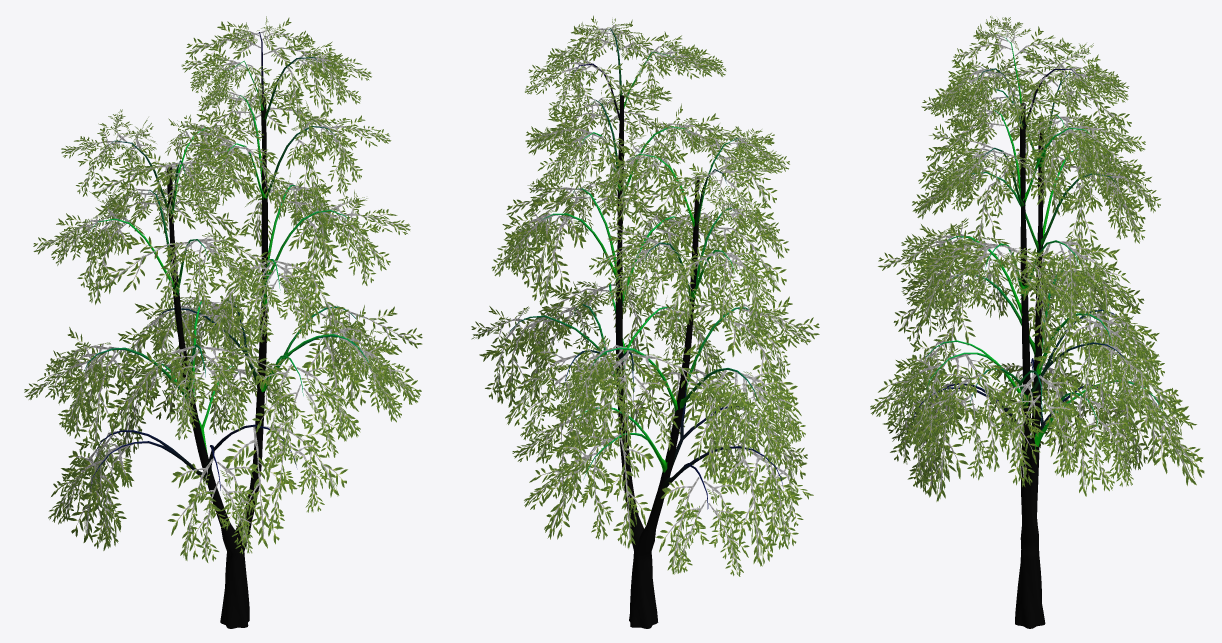
The model's file is birch.fbx.
The picture shows the model from 3 angles, left to right: view 1: azimuth 30°, elevation 25°; view 2: azimuth 150°, elevation 25°; view 3: azimuth 270°, elevation 25°; orthographic projection. The views are drawn at different scales.
Parts seen in each view (by area): view 1: birch leaf_1, bark11_0; view 2: birch leaf_1, bark11_0; view 3: birch leaf_1, bark11_0.
Boxes of the visible parts, <box> form: birch leaf_1: <box>24,16,422,562</box>; bark11_0: <box>83,32,370,628</box>; birch leaf_1: <box>471,15,819,576</box>; bark11_0: <box>507,28,783,628</box>; birch leaf_1: <box>870,16,1204,501</box>; bark11_0: <box>912,37,1165,628</box>.
Size of the model in its own units: 546 by 816 by 435.
1 material, 1 textured.
